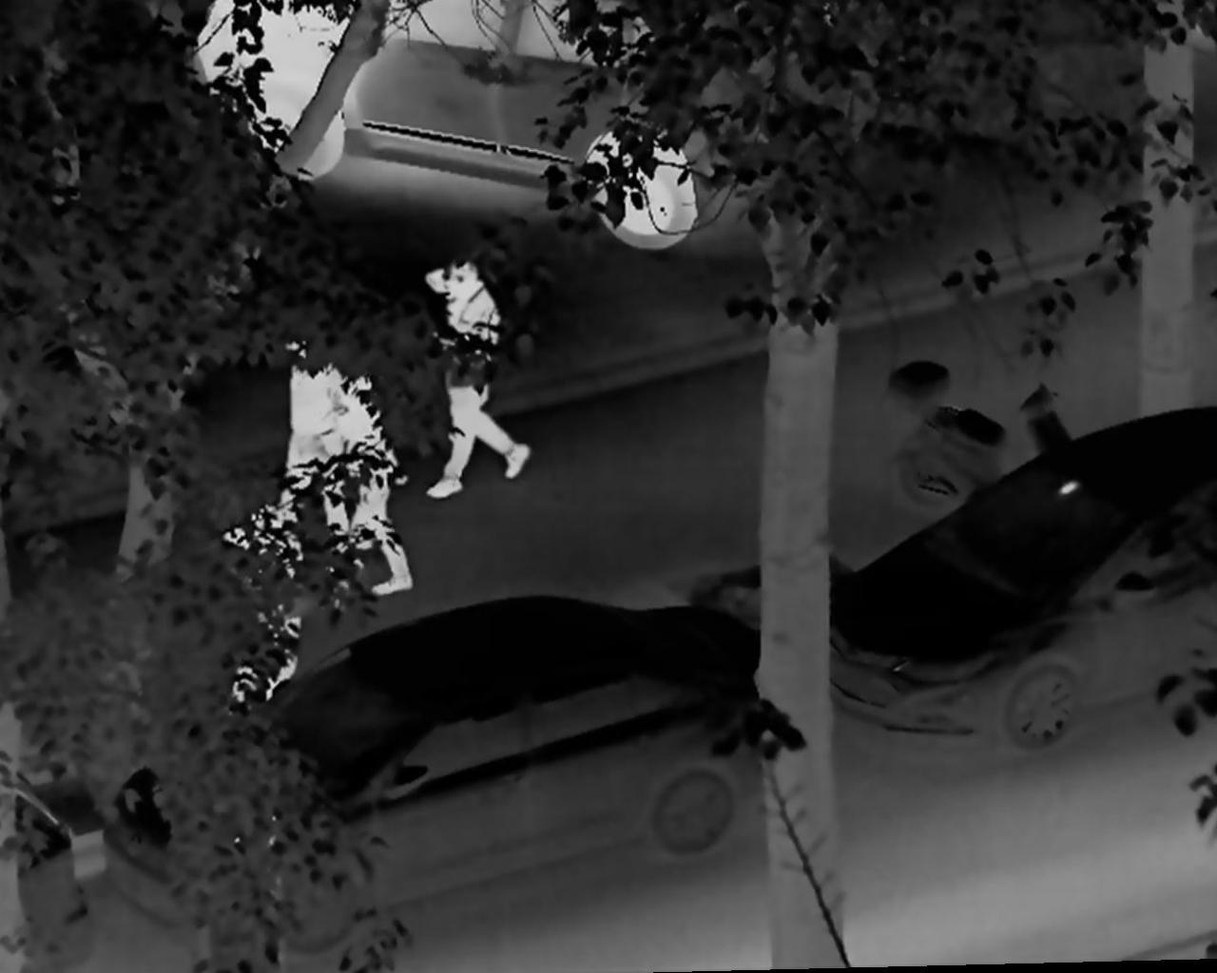person: (415, 249, 535, 506), (253, 313, 361, 565), (316, 369, 415, 599), (214, 499, 309, 718)
